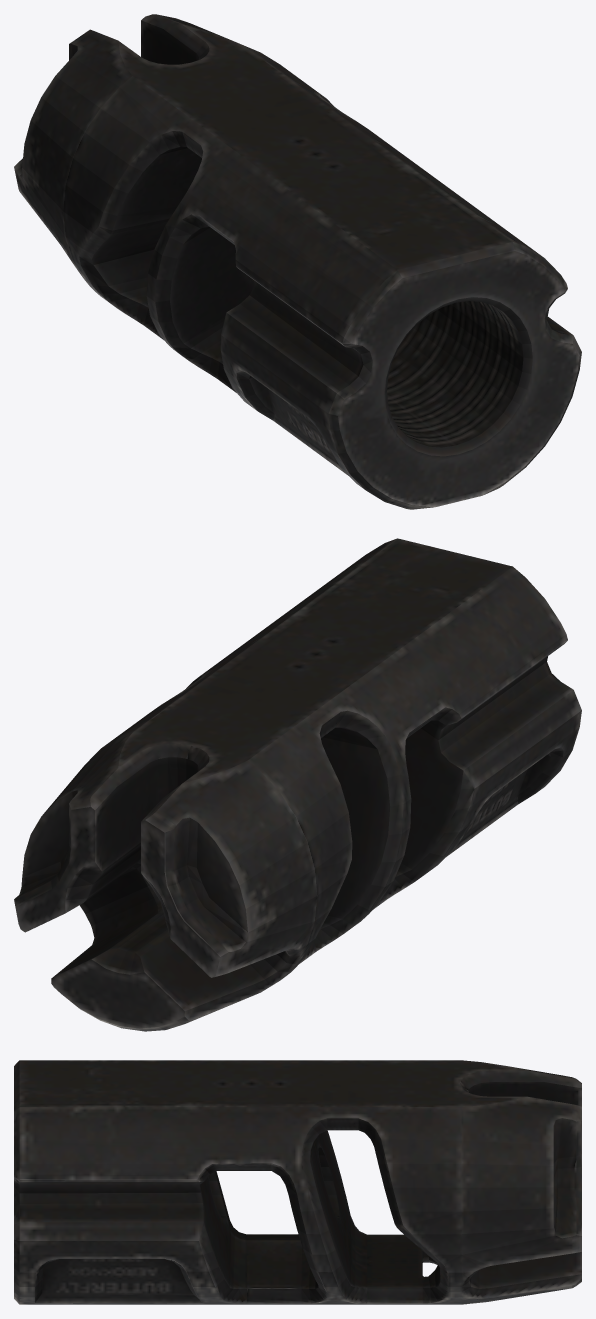
The picture shows the model from 3 angles, top to bottom: view 1: azimuth 30°, elevation 25°; view 2: azimuth 150°, elevation 25°; view 3: azimuth 270°, elevation 25°; orthographic projection. The views are drawn at different scales.
Visible parts, largest first — view 1: TW_6405ff6bd4578826ec3e377a_PZ_Import; view 2: TW_6405ff6bd4578826ec3e377a_PZ_Import; view 3: TW_6405ff6bd4578826ec3e377a_PZ_Import.
Boxes of the visible parts, x1,y1,x2,y2 form: TW_6405ff6bd4578826ec3e377a_PZ_Import: [14, 14, 581, 509]; TW_6405ff6bd4578826ec3e377a_PZ_Import: [14, 538, 581, 1031]; TW_6405ff6bd4578826ec3e377a_PZ_Import: [14, 1060, 581, 1304].
Size of the model in its own units: 0.0126 by 0.0294 by 0.012.
Materials: 1 (1 with a texture image).
